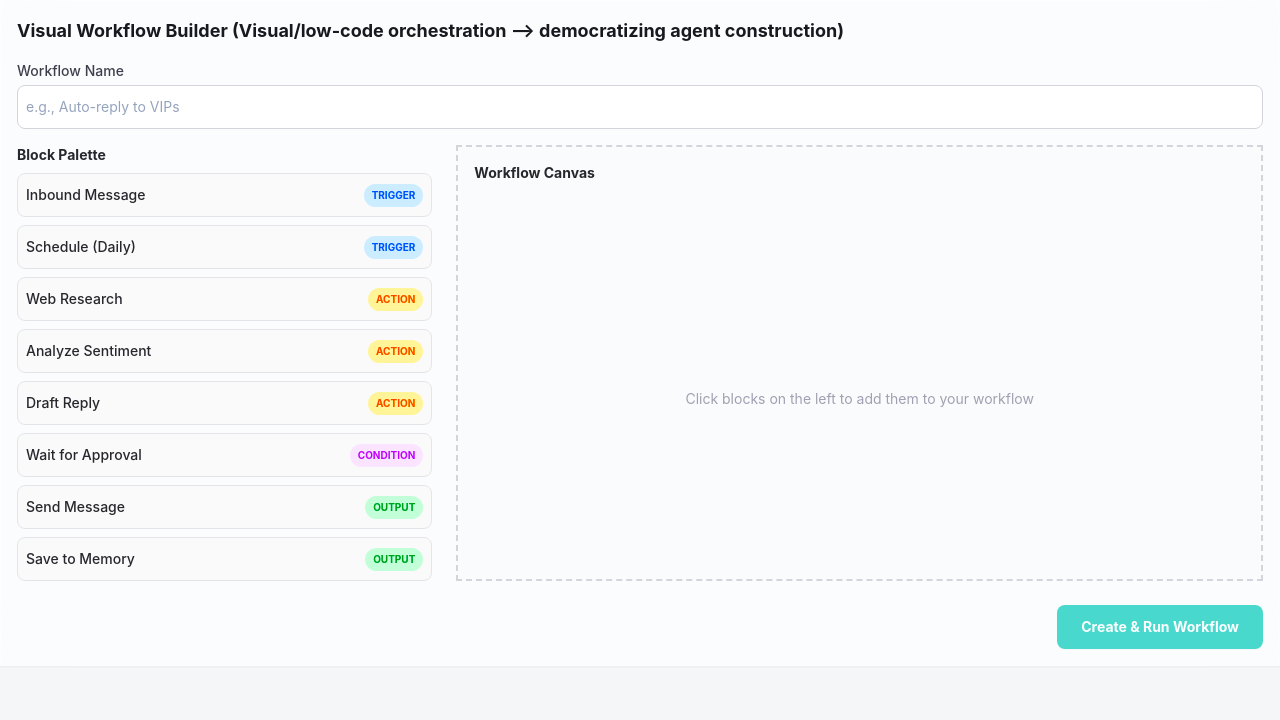
Test case: shows error when onSave fails
Type "Bad Workflow" into the field with placeholder "e.g., Auto-reply to VIPs".
click(640, 107); type("Bad Workflow")  # box [17,85,1263,129]
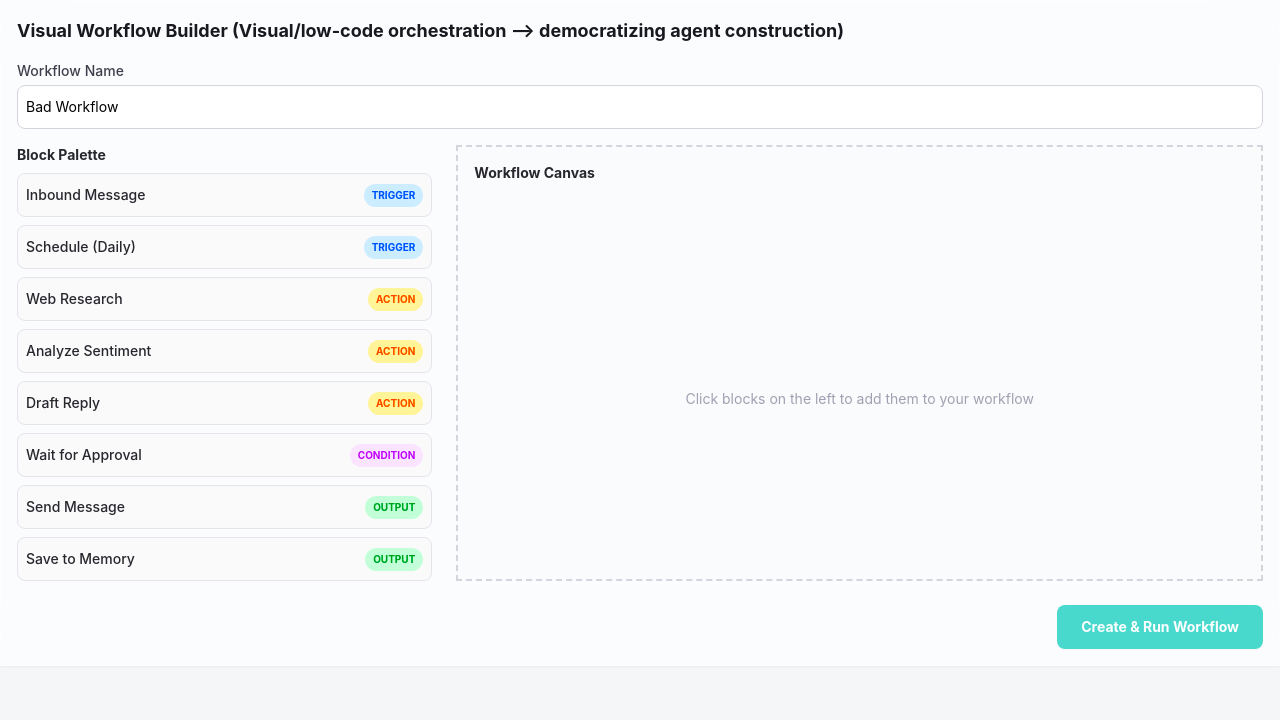
Click the button with test id "palette-block-trigger_message".
click(86, 194)  # box [17,173,432,217]
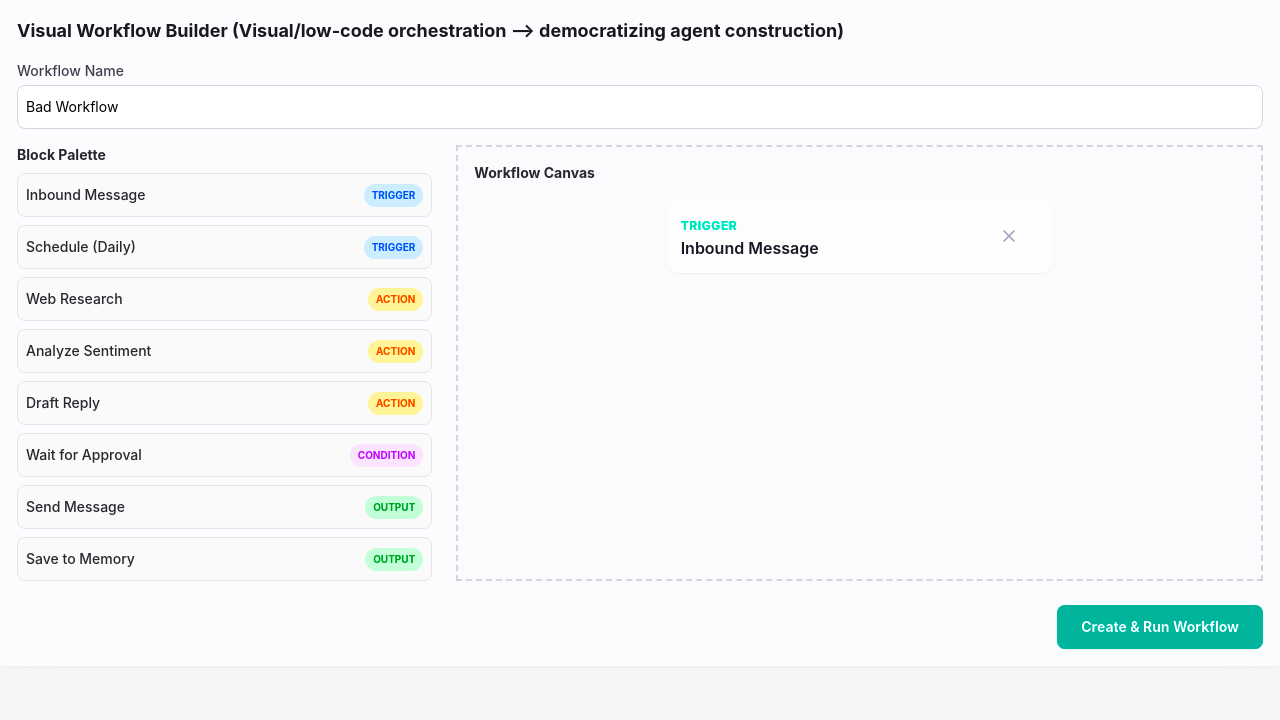
Click the button "Create & Run Workflow".
click(1160, 627)  # box [1057,605,1263,649]
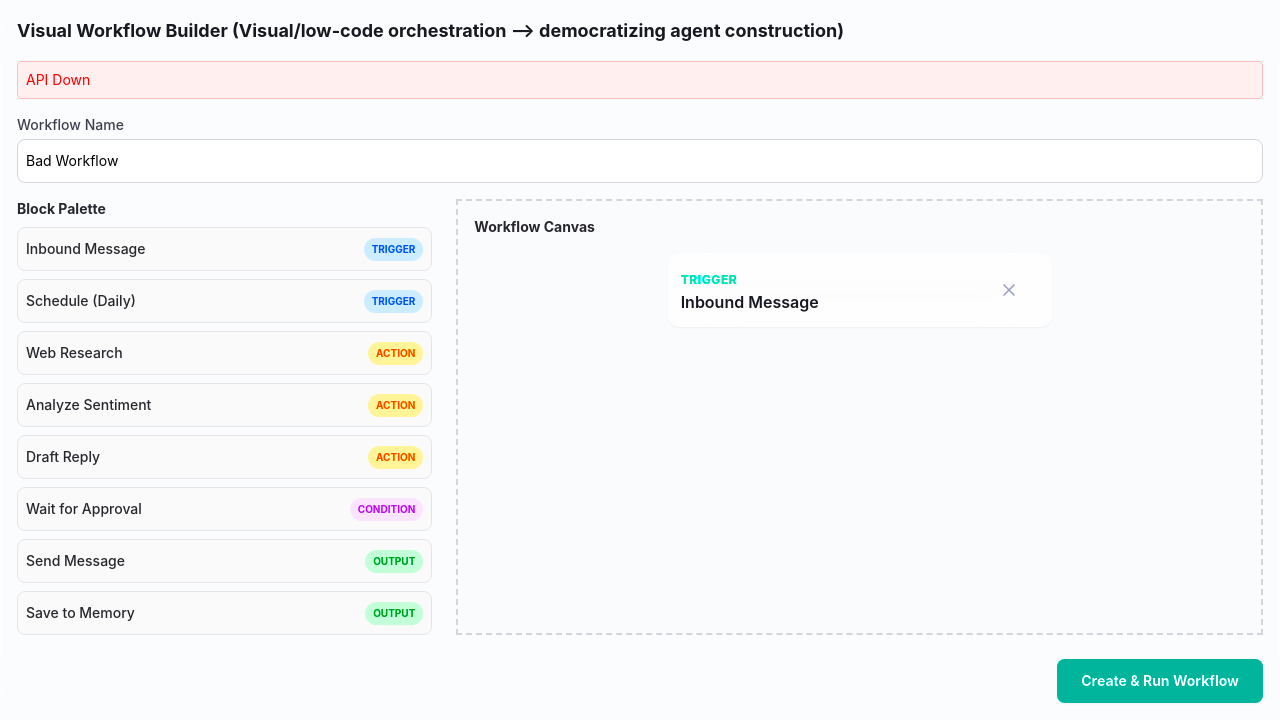
Result: the text with test id "builder-error" reads "API Down" at [26,71,90,88]
